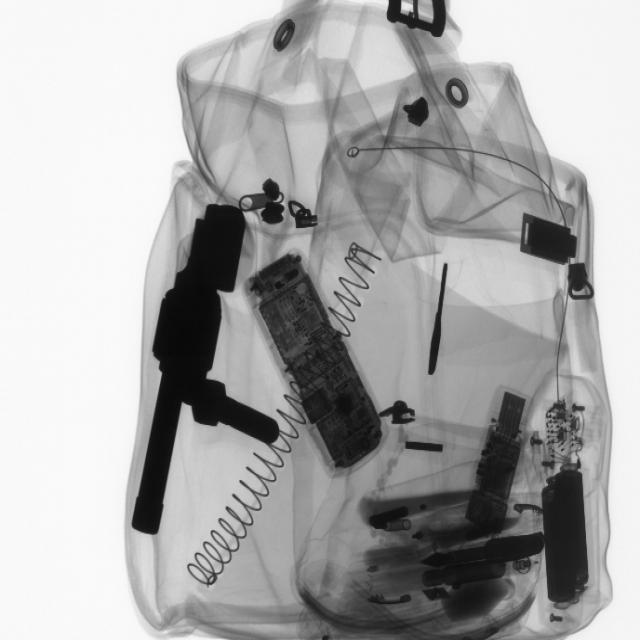GUN: (129, 197, 248, 540)
